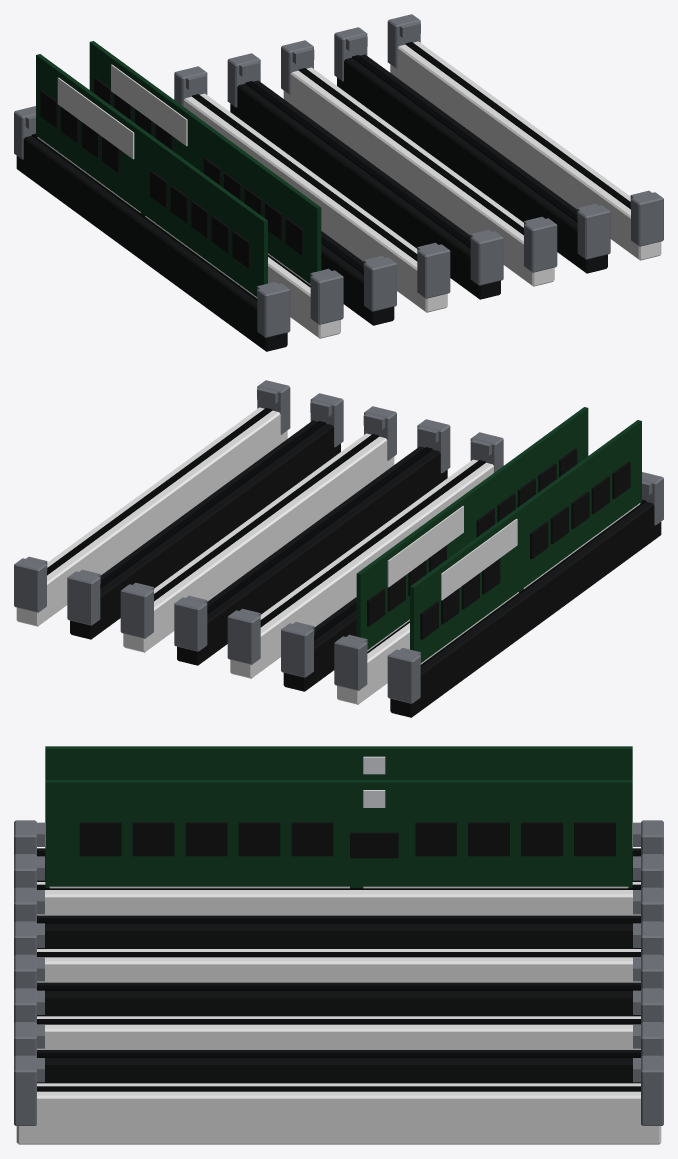
The model's file is asm_ram_t0.glb.
The picture shows the model from 3 angles, top to bottom: view 1: azimuth 30°, elevation 25°; view 2: azimuth 150°, elevation 25°; view 3: azimuth 270°, elevation 25°; orthographic projection. The views are drawn at different scales.
Parts seen in each view (by area): view 1: Slots, Stick_0, Stick_1, Latch_1_1, Latch_4_1, Latch_6_1, Latch_5_1, Latch_0_1, Latch_3_1, Latch_7_1, Latch_2_1, Latch_4_0 (+5 smaller); view 2: Slots, Stick_0, Stick_1, Latch_1_0, Latch_4_0, Latch_6_0, Latch_5_0, Latch_0_0, Latch_3_0, Latch_7_0, Latch_2_0, Latch_4_1 (+5 smaller); view 3: Slots, Stick_1, Stick_0, Latch_7_0, Latch_7_1, Latch_2_0, Latch_2_1, Latch_4_0, Latch_4_1, Latch_0_0, Latch_0_1, Latch_5_0 (+7 smaller).
Part boxes in pixels (x1,y1,x2,y2): Slots: (16,41,661,351); Stick_0: (36,54,267,298); Stick_1: (89,41,321,285); Latch_1_1: (310,268,343,324); Latch_4_1: (470,229,503,285); Latch_6_1: (577,203,610,259); Latch_5_1: (524,216,557,272); Latch_0_1: (257,282,290,337); Latch_3_1: (417,242,450,298); Latch_7_1: (630,190,663,246); Latch_2_1: (363,256,396,311); Latch_4_0: (227,53,260,107); Slots: (16,407,661,717); Stick_0: (410,420,641,664); Stick_1: (356,407,588,651); Latch_1_0: (334,634,367,690); Latch_4_0: (174,595,207,651); Latch_6_0: (67,569,100,625); Latch_5_0: (120,582,153,638); Latch_0_0: (387,648,420,703); Latch_3_0: (227,608,260,664); Latch_7_0: (14,556,47,612); Latch_2_0: (281,622,314,677); Latch_4_1: (417,419,450,473); Slots: (16,848,661,1144); Stick_1: (45,780,632,888); Stick_0: (45,746,632,779); Latch_7_0: (633,1055,663,1125); Latch_7_1: (14,1055,44,1125); Latch_2_0: (633,887,663,922); Latch_2_1: (14,887,44,922); Latch_4_0: (633,954,663,989); Latch_4_1: (14,954,44,989); Latch_0_0: (633,820,663,855); Latch_0_1: (14,820,44,855); Latch_5_0: (633,988,663,1022).
Bounding box in the file's own units: 0.1346 × 0.0389 × 0.1472.
